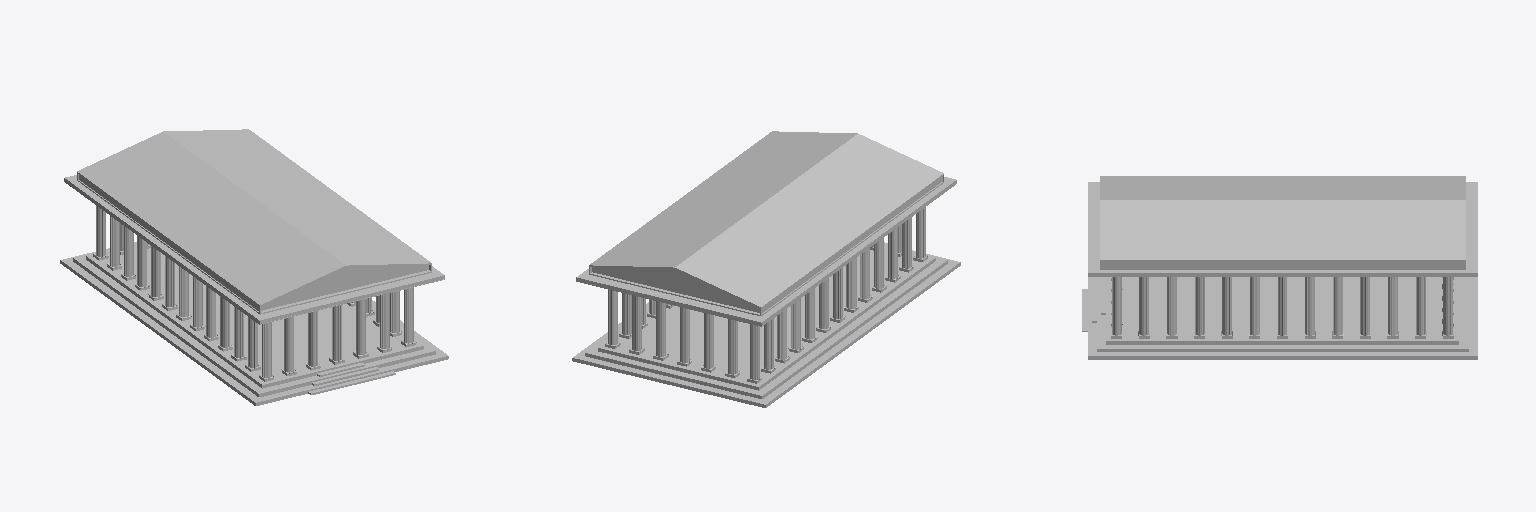
Rendered from temple.obj.
3 views of the same model, side by side, from view 1: azimuth 30°, elevation 25°; view 2: azimuth 150°, elevation 25°; view 3: azimuth 270°, elevation 25° (orthographic).
Parts seen in each view (by area): view 1: greek_temple2; view 2: greek_temple2; view 3: greek_temple2.
Boxes of the visible parts, box(x1,y1,x2,y2) form: greek_temple2: box(60, 129, 448, 405); greek_temple2: box(572, 131, 960, 407); greek_temple2: box(1082, 176, 1477, 359).
Bounding box in the file's own units: 40 × 22.35 × 70.98.